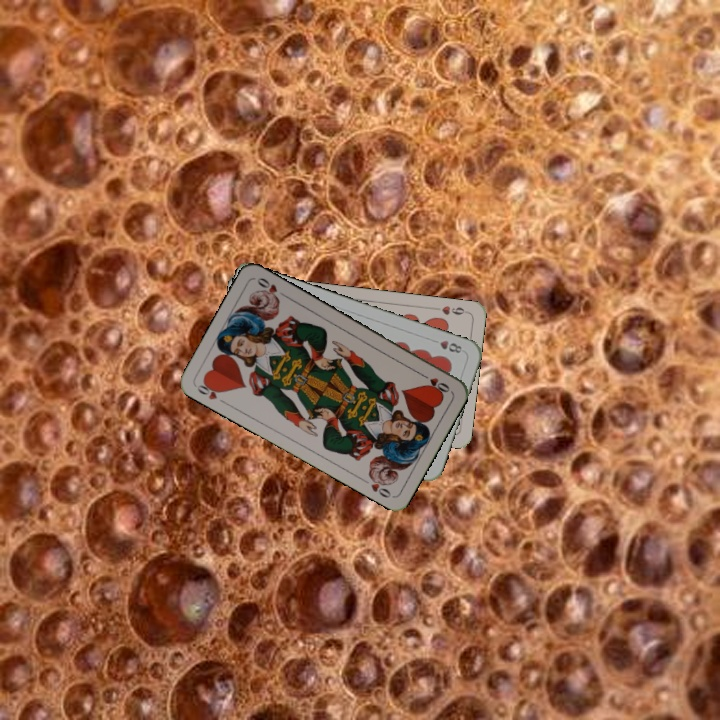H8: (427, 335, 465, 356)
H9: (430, 302, 470, 318)
HO: (193, 377, 230, 407), (416, 369, 453, 395)
